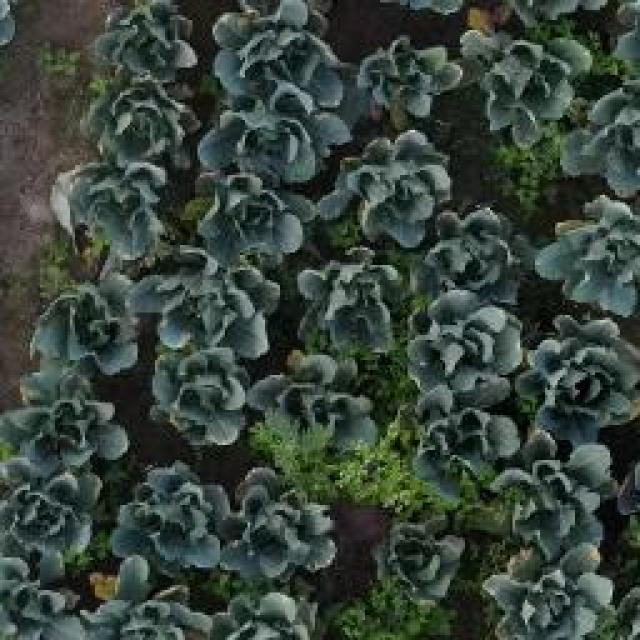cabbage: (328, 126, 455, 253), (204, 0, 347, 106), (146, 248, 277, 357), (483, 535, 615, 640), (526, 312, 640, 433), (465, 25, 577, 148), (1, 374, 129, 477), (537, 190, 640, 315), (227, 463, 337, 580), (27, 267, 143, 376), (112, 463, 225, 571), (412, 386, 518, 499), (200, 104, 349, 184), (64, 160, 172, 270), (0, 452, 105, 560), (192, 170, 310, 266), (87, 552, 215, 640), (146, 342, 255, 444), (407, 296, 528, 386), (352, 31, 465, 123), (426, 199, 525, 296), (560, 65, 640, 185), (88, 72, 194, 160), (0, 547, 98, 640), (371, 513, 467, 602), (95, 0, 200, 78), (263, 362, 373, 432), (516, 434, 612, 512), (311, 264, 394, 346)
